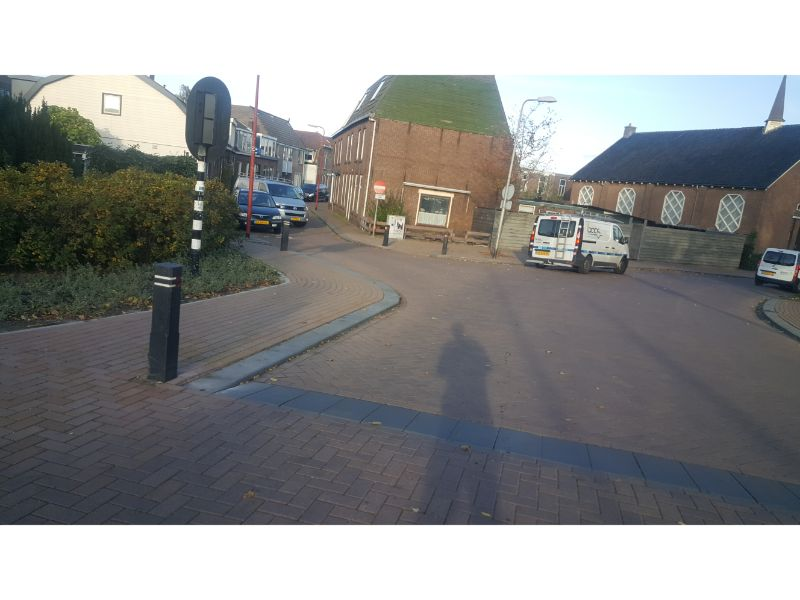kenteken: (534, 249, 549, 257), (254, 219, 270, 226)
